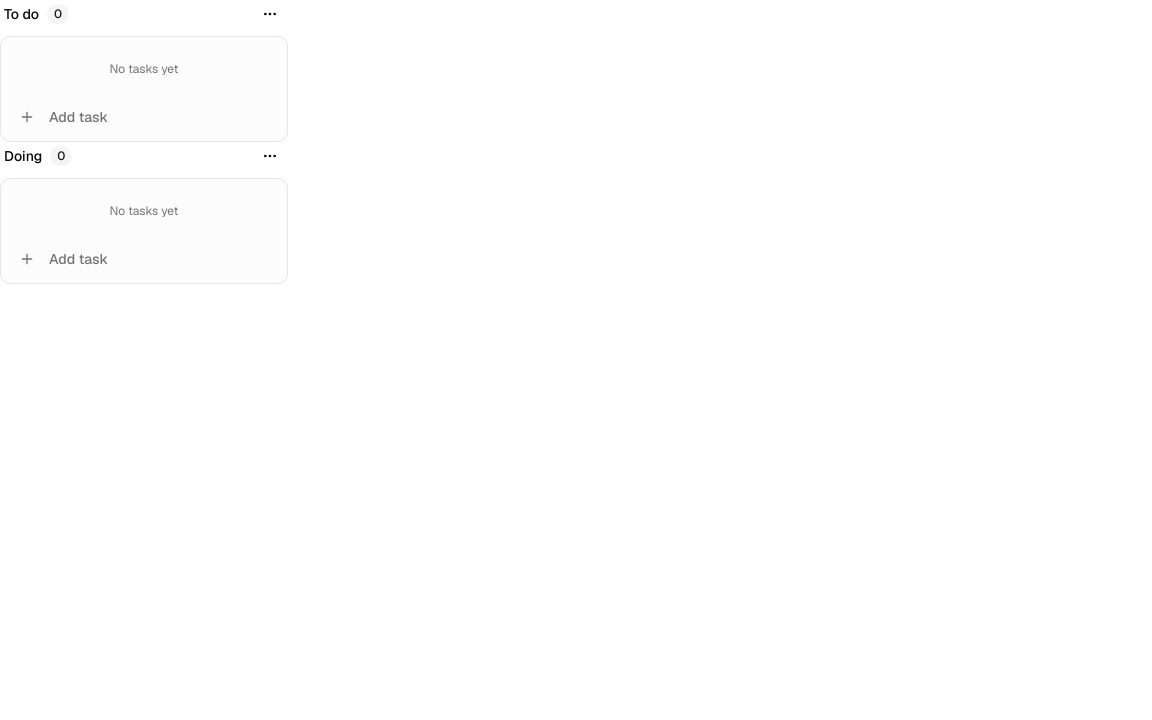
Scenario: Column delete confirm returns focus › moves to the next column's menu button after a delete
Click the button named "To do column actions": [270, 14] box [256,0,284,28]
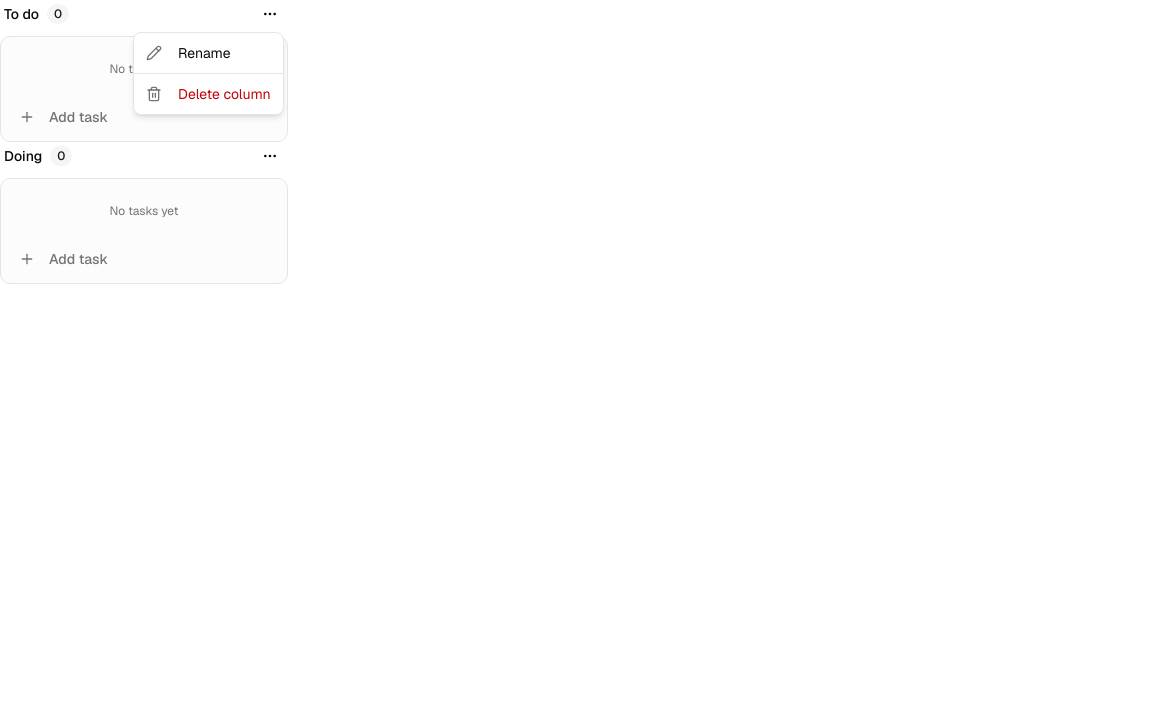
Click the menu item "Delete column": [208, 94] box [146,85,271,103]
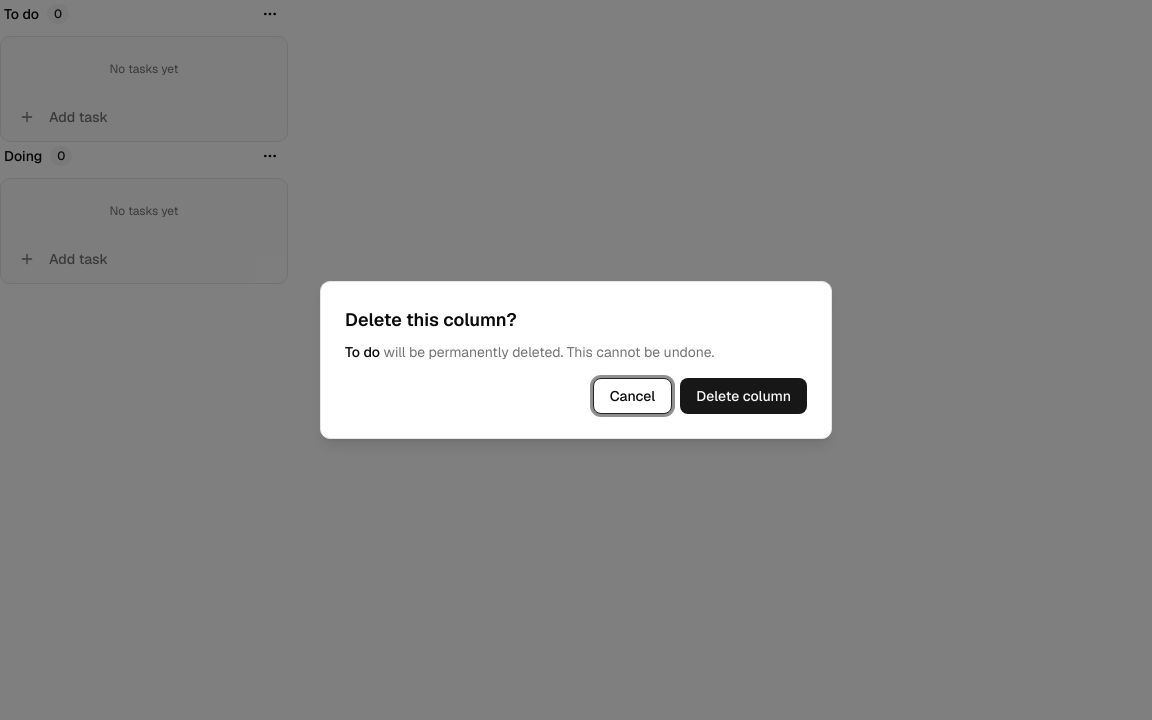
Click the button "Delete column": [744, 396] box [680,378,807,414]
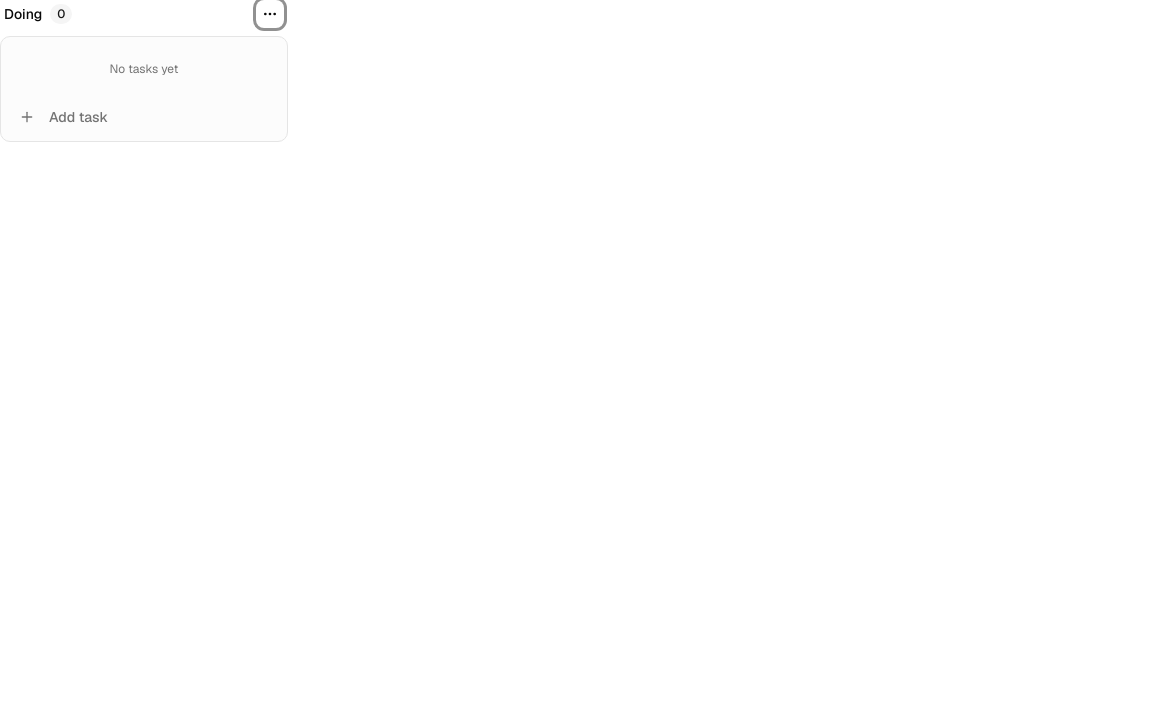
Check: the heading "To do" is gone
